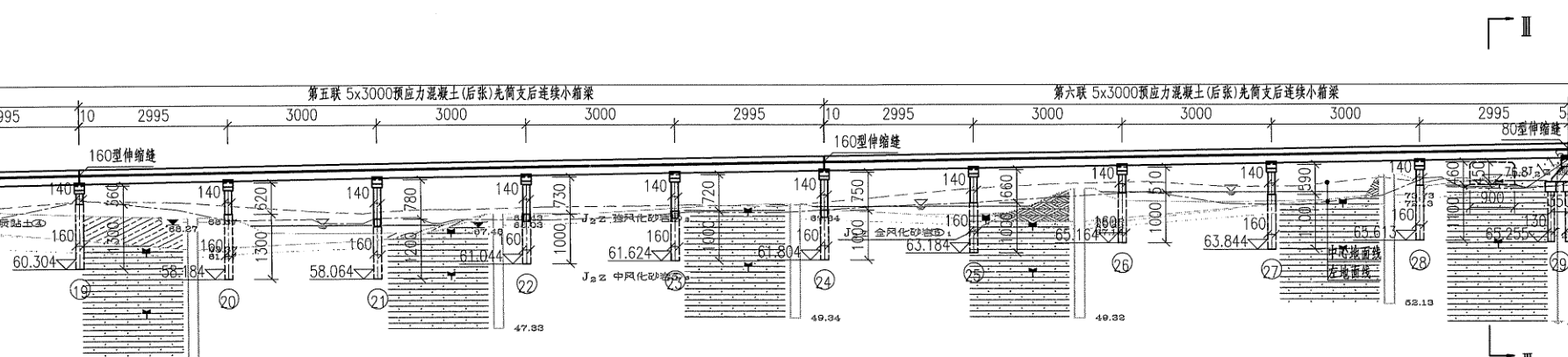A: (3, 61, 1568, 89)
B: (822, 82, 1568, 112), (70, 82, 830, 111)
C: (303, 170, 392, 318), (155, 175, 246, 317), (747, 166, 842, 298), (1195, 155, 1285, 287), (455, 169, 543, 301), (901, 161, 988, 289), (7, 178, 94, 306), (606, 168, 689, 297), (1351, 153, 1435, 277), (1495, 170, 1568, 280), (1086, 159, 1138, 278)
